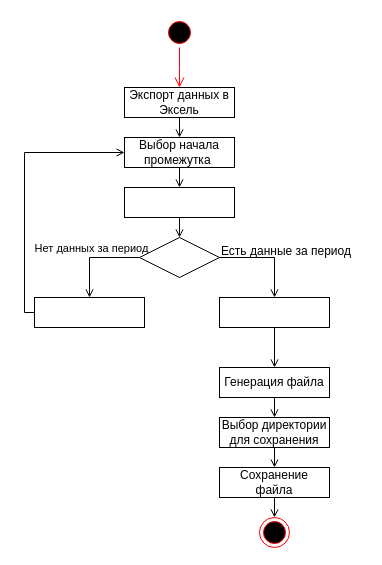
The diagram is 382 pixels wide and 565 high, and some of its shapes have lost their labels. Each missing label, with the box of its shape:
Выбор конца промежутка: (124, 186, 234, 218)
Данных не обнаружено: (34, 296, 144, 328)
Подгрузка данных с сервера: (218, 296, 330, 328)
